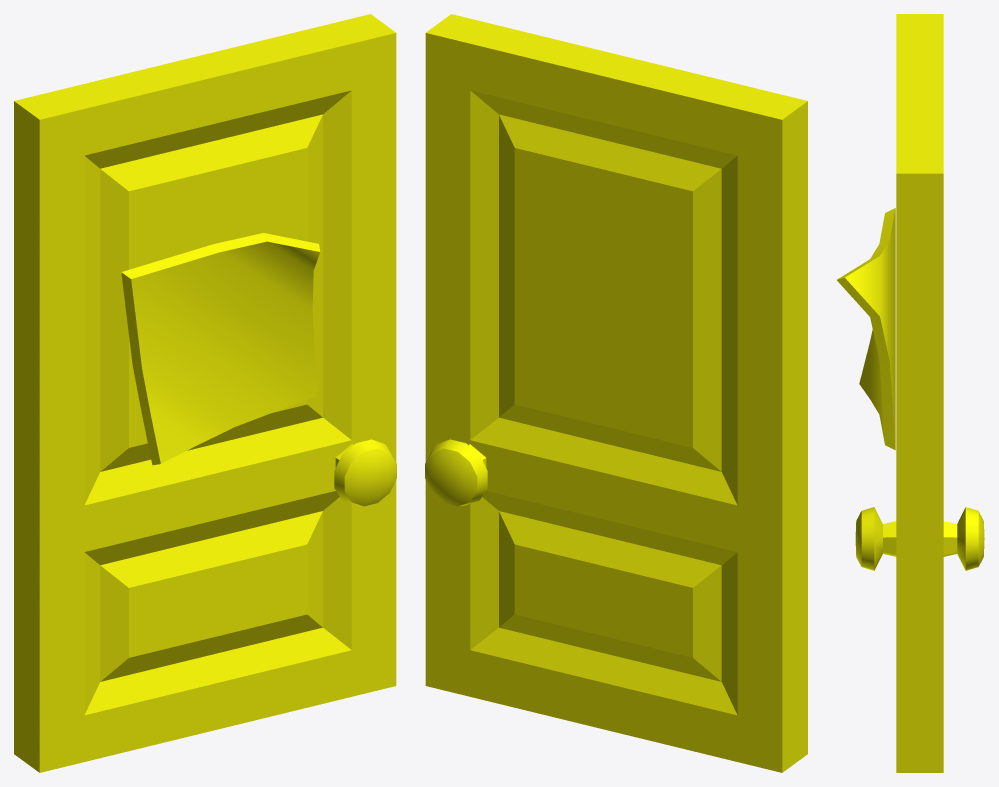
The model's file is kaykit-door-a-decorated.glb.
3 views of the same model, side by side, from view 1: azimuth 30°, elevation 25°; view 2: azimuth 150°, elevation 25°; view 3: azimuth 270°, elevation 25° (orthographic). The views are drawn at different scales.
Visible parts, largest first — view 1: Door_A_Decorated; view 2: Door_A_Decorated; view 3: Door_A_Decorated.
Boxes of the visible parts, x1=… form: Door_A_Decorated: x1=14, y1=14, x2=396, y2=772; Door_A_Decorated: x1=425, y1=14, x2=807, y2=772; Door_A_Decorated: x1=837, y1=14, x2=984, y2=772.
Size of the model in its own units: 1.6 by 2.8 by 0.6269.
